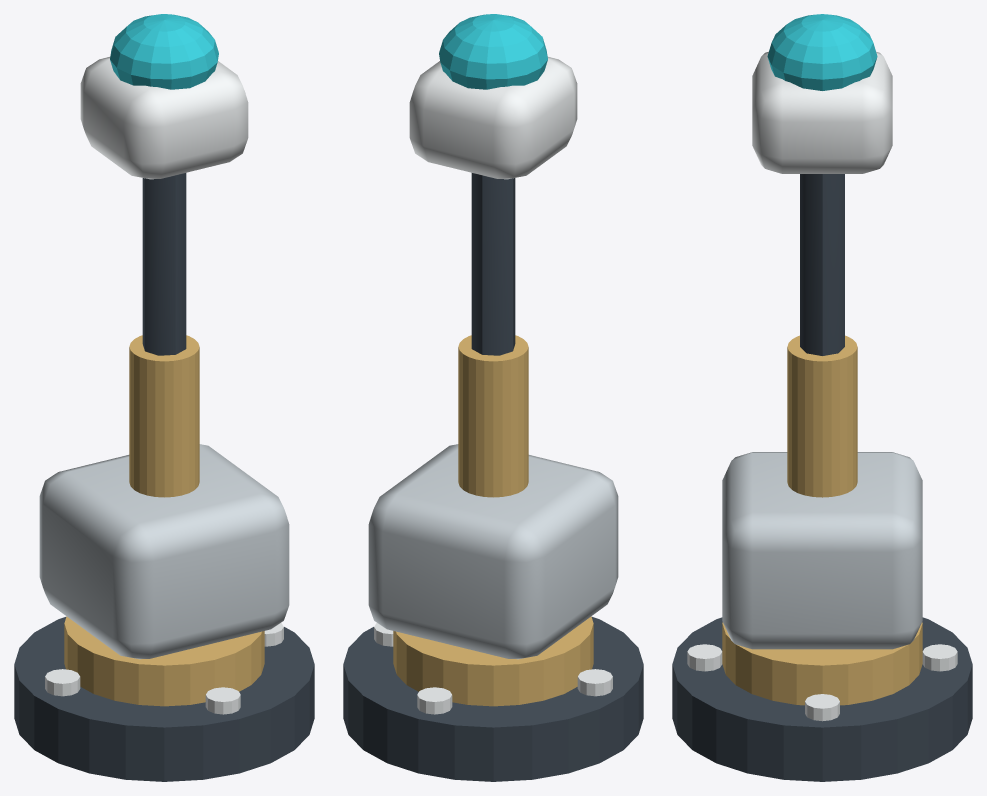
File: magnetometer_boom.glb
3 views of the same model, side by side, from view 1: azimuth 30°, elevation 25°; view 2: azimuth 150°, elevation 25°; view 3: azimuth 270°, elevation 25° (orthographic).
Parts seen in each view (by area): view 1: Electronics_Box, Mount_Flange, Sensor_Head, Boom_Base, Mount_Collar, Boom_Arm, Sensor_Cap, Mount_Bolt_002, Mount_Bolt_003; view 2: Electronics_Box, Mount_Flange, Sensor_Head, Boom_Base, Mount_Collar, Boom_Arm, Sensor_Cap, Mount_Bolt_002, Mount_Bolt_001; view 3: Electronics_Box, Mount_Flange, Sensor_Head, Boom_Base, Mount_Collar, Boom_Arm, Sensor_Cap, Mount_Bolt_001, Mount_Bolt_003, Mount_Bolt.
Part boxes in pixels (x1,y1,x2,y2): Electronics_Box: (39, 444, 289, 659); Mount_Flange: (14, 617, 314, 781); Sensor_Head: (80, 57, 248, 179); Boom_Base: (129, 335, 199, 497); Mount_Collar: (64, 616, 264, 706); Boom_Arm: (142, 173, 186, 355); Sensor_Cap: (110, 14, 218, 89); Mount_Bolt_002: (45, 669, 80, 696); Mount_Bolt_003: (205, 687, 240, 714); Electronics_Box: (368, 444, 618, 659); Mount_Flange: (343, 617, 643, 781); Sensor_Head: (409, 57, 577, 179); Boom_Base: (458, 335, 528, 497); Mount_Collar: (393, 616, 593, 706); Boom_Arm: (471, 173, 515, 355); Sensor_Cap: (439, 14, 547, 89); Mount_Bolt_002: (577, 669, 612, 696); Mount_Bolt_001: (417, 687, 452, 714); Electronics_Box: (722, 452, 922, 649); Mount_Flange: (672, 617, 972, 781); Sensor_Head: (752, 51, 892, 173); Boom_Base: (787, 335, 857, 497); Mount_Collar: (722, 622, 922, 705); Boom_Arm: (800, 174, 844, 355); Sensor_Cap: (767, 14, 877, 90); Mount_Bolt_001: (922, 644, 957, 671); Mount_Bolt_003: (687, 644, 722, 671); Mount_Bolt: (805, 694, 839, 721).
Bounding box in the file's own units: 0.6 × 1.54 × 0.6.
